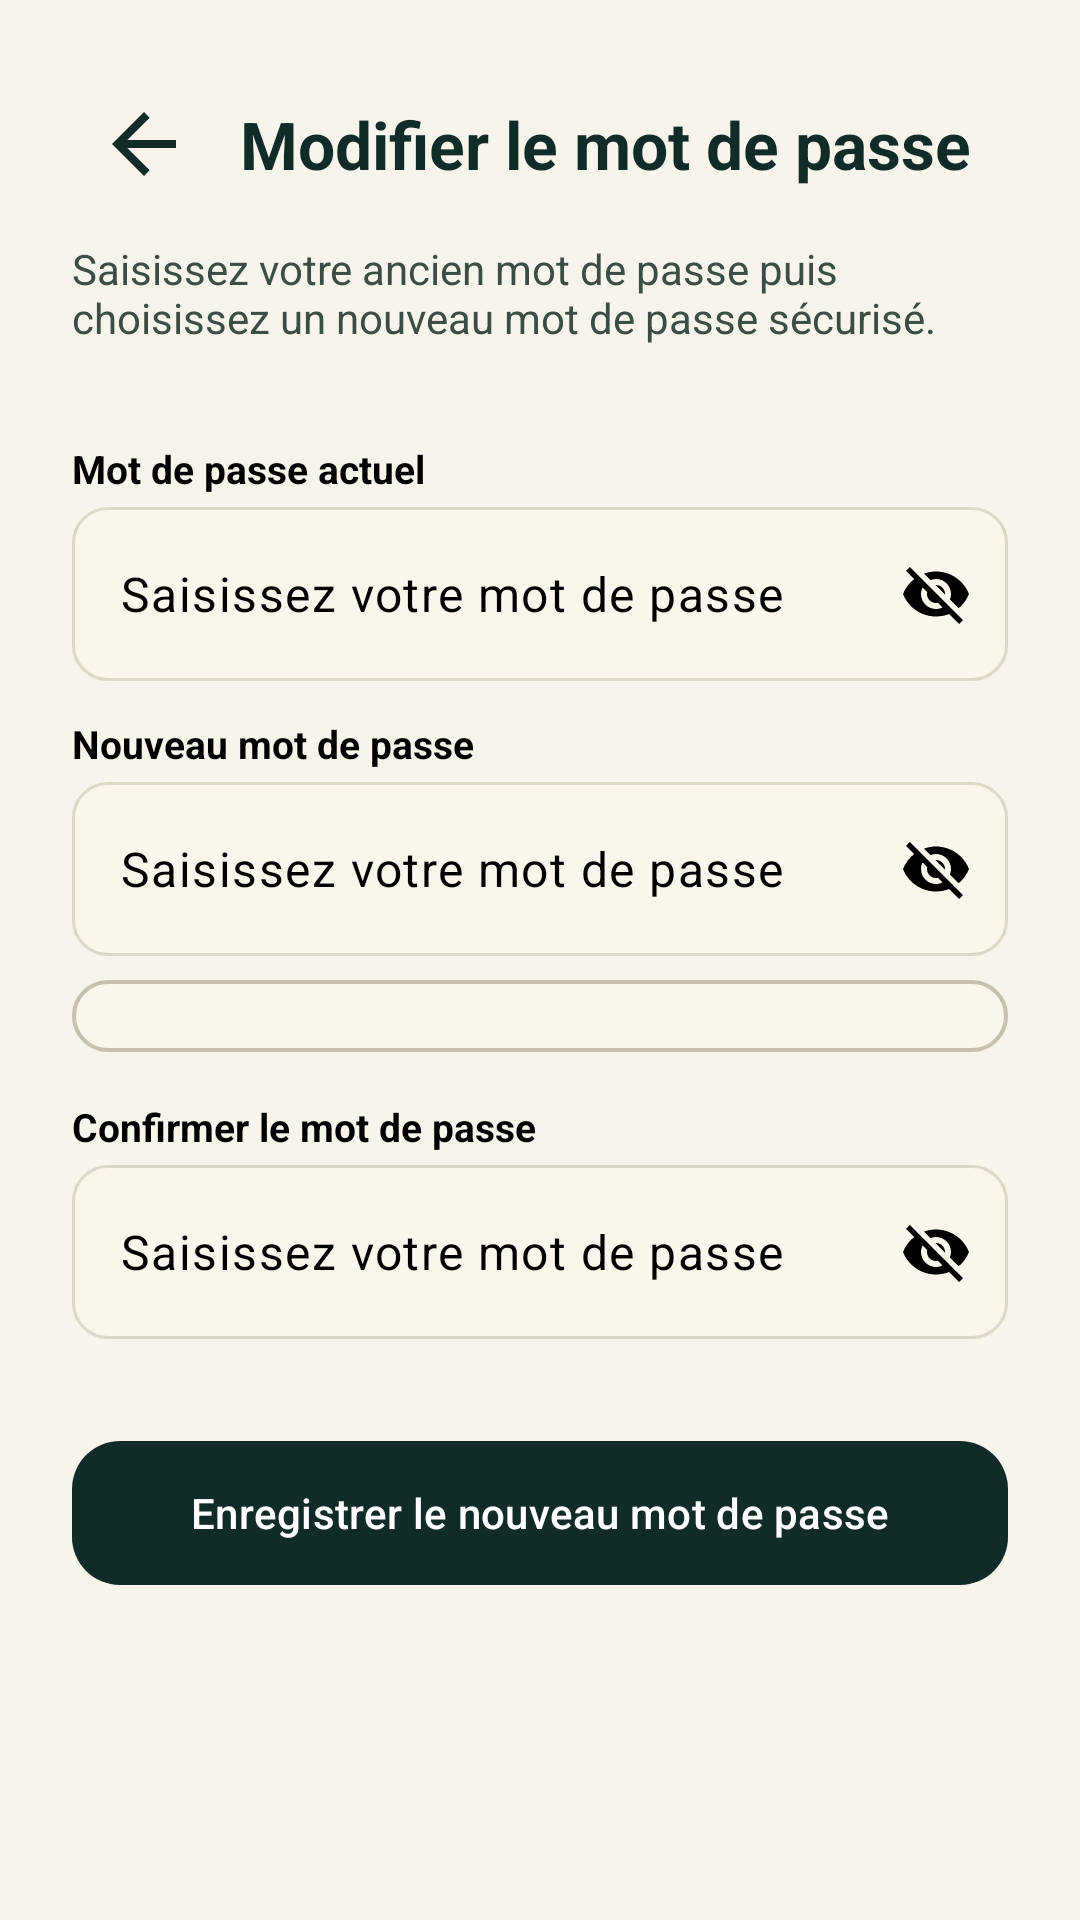

Icon click points for this 1080*1920 phone screenshot, format point (x, y):
Retour: point (144, 144)
